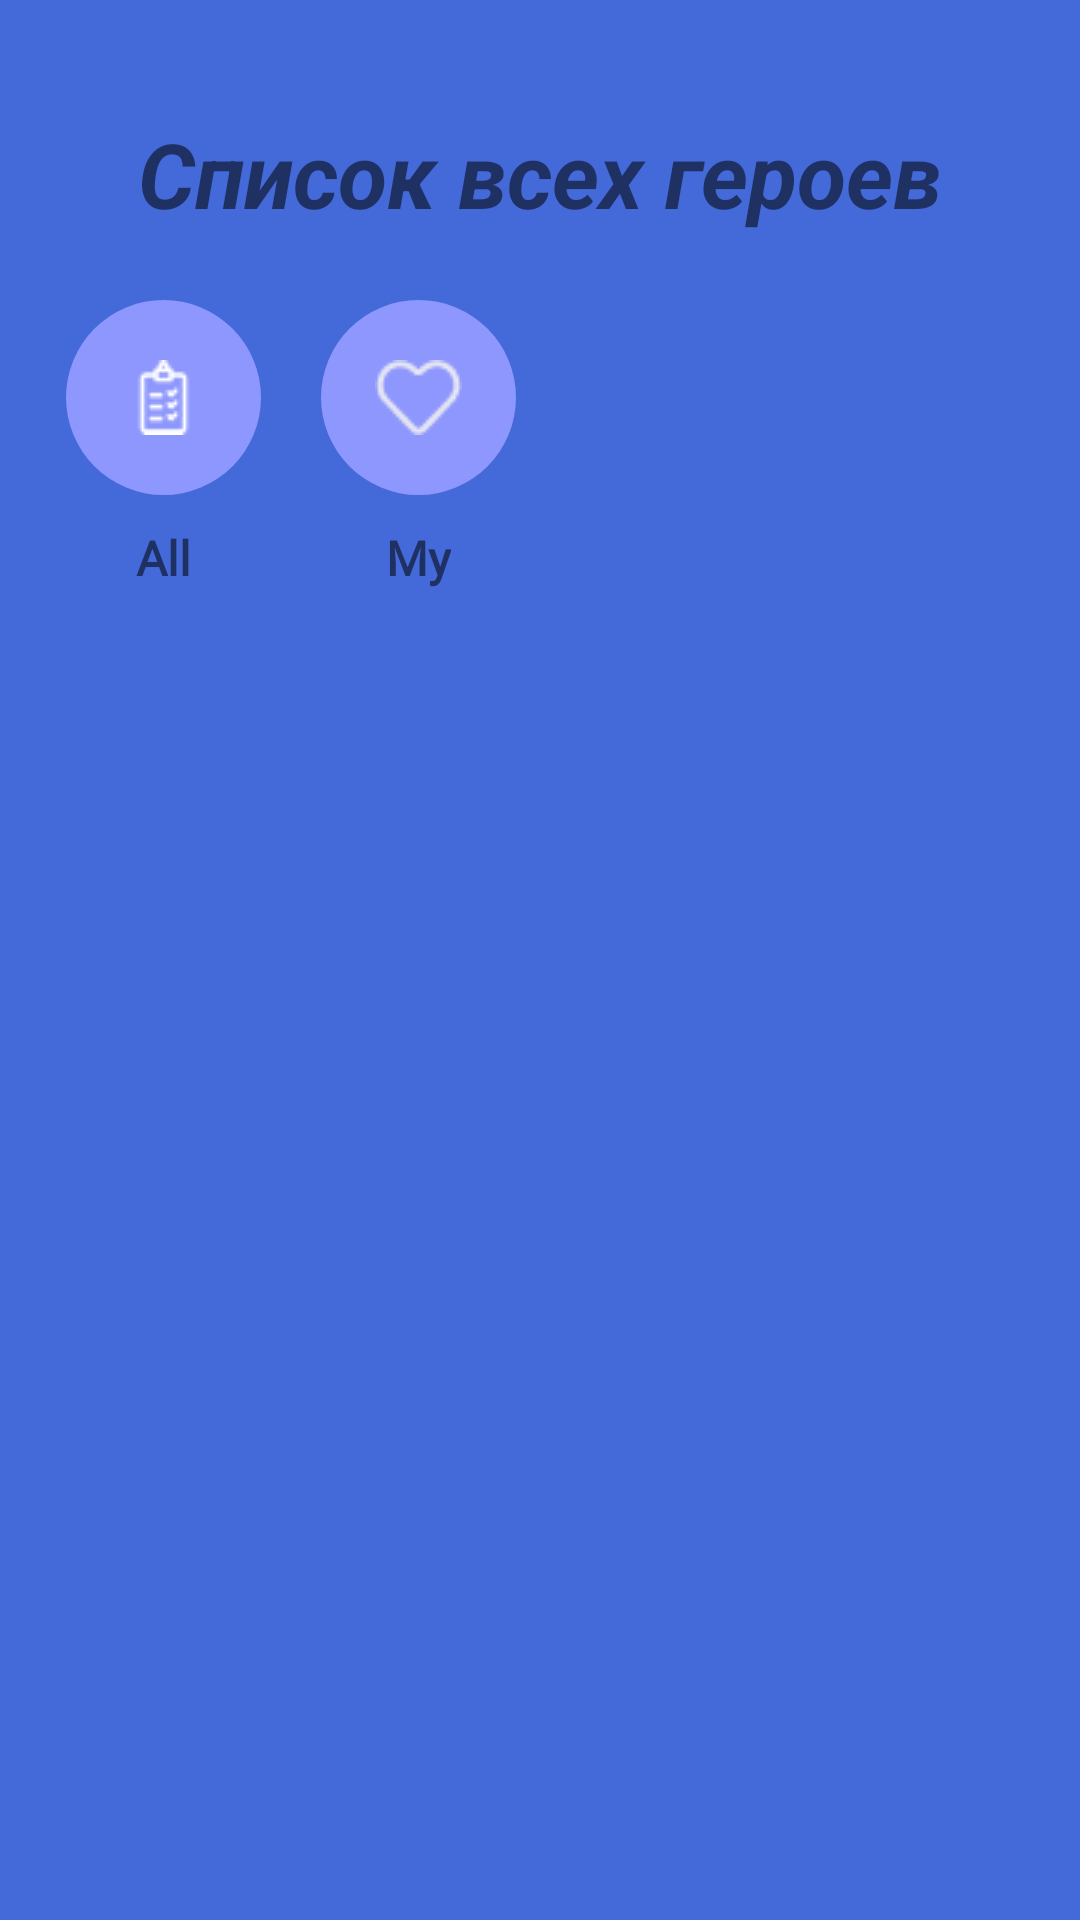

Named icons in this screenshot (1080*1920) and their centers, point (x, y):
heart disslike: point (418, 397)
